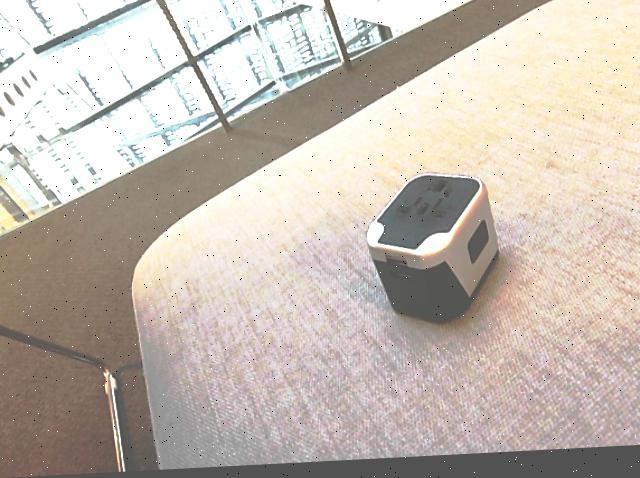adapter: (365, 173, 499, 332)
